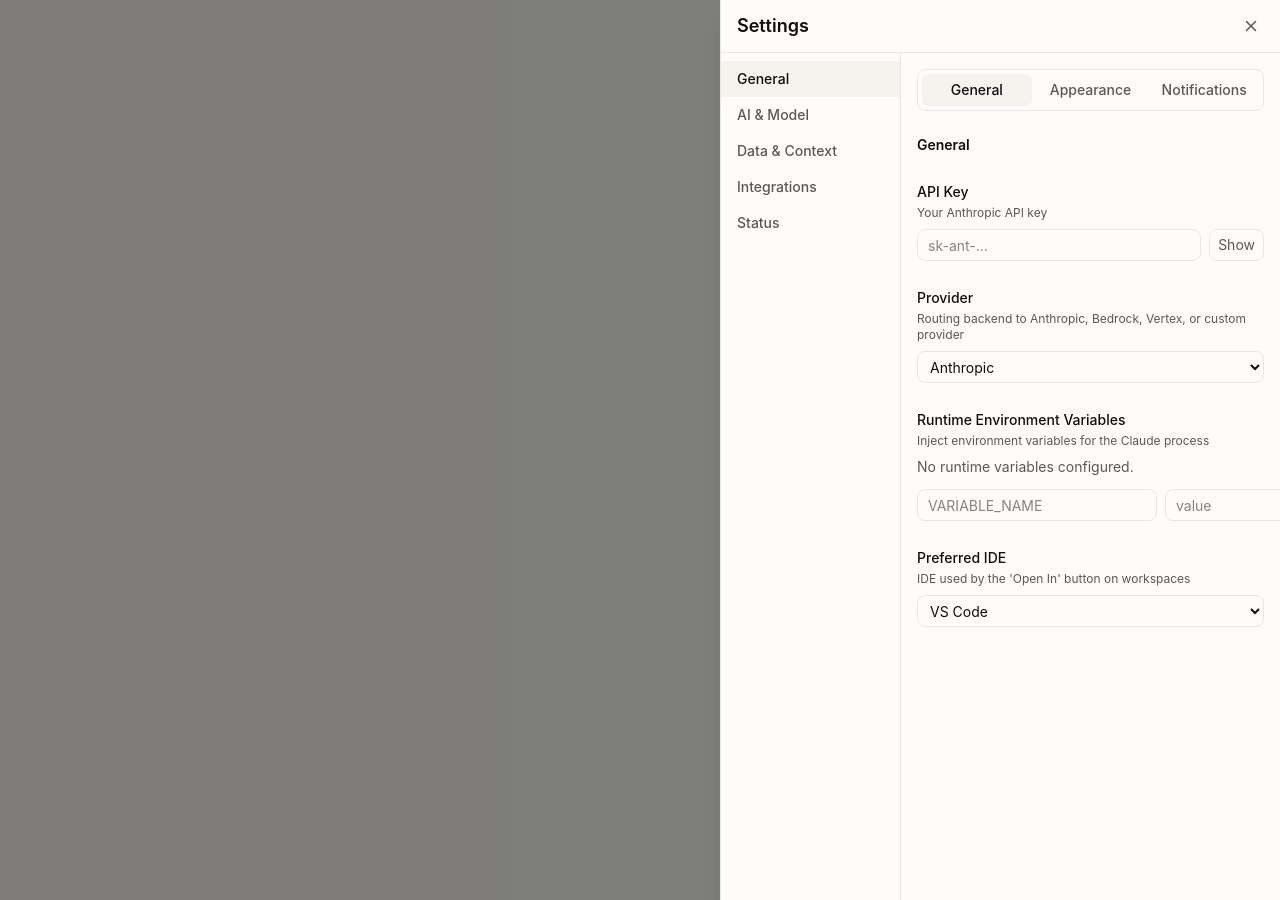
Scenario: SettingsPanel › switches to Integrations group and shows Linear connect controls
Click the tab "Integrations" at (810, 187), box x1=721 y1=169 x2=900 y2=205
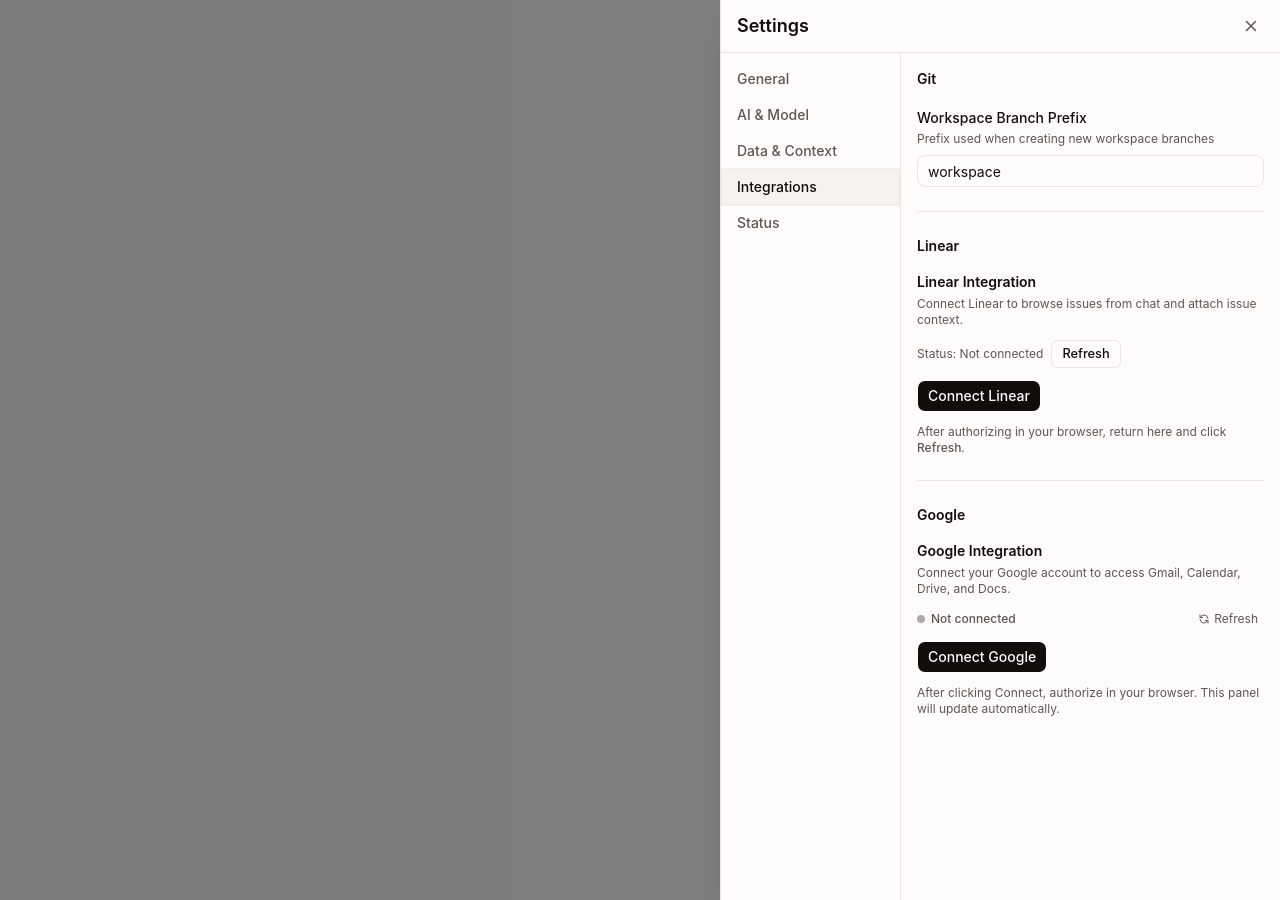
Result: the heading "Linear Integration" is shown at x1=917 y1=273 x2=1036 y2=290
Result: the button with test id "linear-connect-button" is shown at x1=917 y1=380 x2=1041 y2=412
